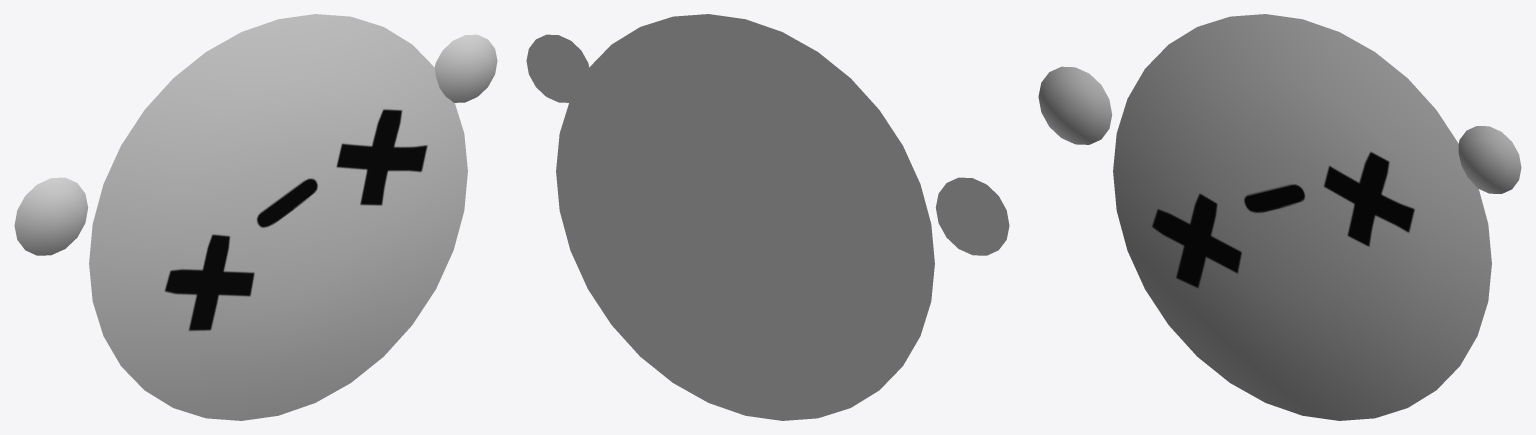
Rendered from Avocado-squished.glb.
3 renders of one model, left to right at view 1: azimuth 30°, elevation 25°; view 2: azimuth 150°, elevation 25°; view 3: azimuth 330°, elevation 25°, orthographic.
Parts seen in each view (by area): view 1: Squished__3367, Squished_Faceplate__3281; view 2: Squished__3367; view 3: Squished__3367, Squished_Faceplate__3281.
Boxes of the visible parts, bbox=[...] form: Squished__3367: bbox=[14, 14, 497, 420]; Squished_Faceplate__3281: bbox=[165, 109, 427, 330]; Squished__3367: bbox=[526, 14, 1009, 420]; Squished__3367: bbox=[1038, 14, 1521, 420]; Squished_Faceplate__3281: bbox=[1152, 151, 1414, 287].
Size of the model in its own units: 1.96 by 1.53 by 0.1286.
Materials: 2 (1 with a texture image).
